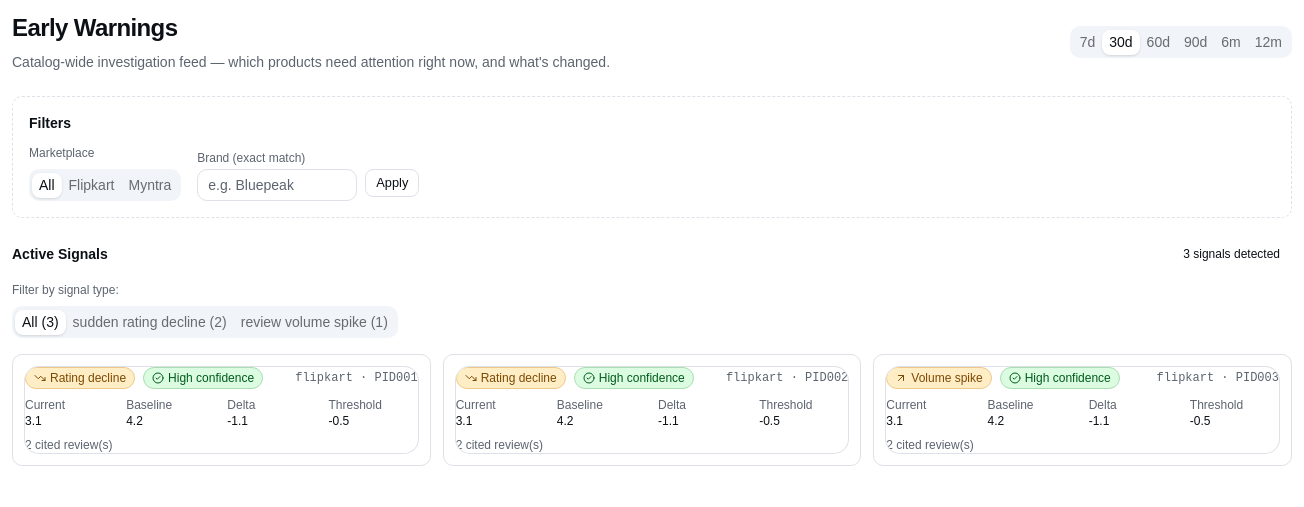
Test: Warnings / Early Warnings (Phase 7 Step 5) › 15. the signal-type filter only groups/counts already-fetched data, no client analytics
The width and height of the screenshot is (1304, 507).
Expected: the text "flipkart · PID001" is shown, x1=295 y1=370 x2=418 y2=386
Expected: the tab "All (3)" is shown, x1=15 y1=310 x2=66 y2=334
Click the tab "review volume spike (1)" at (314, 322), box x1=234 y1=310 x2=395 y2=334
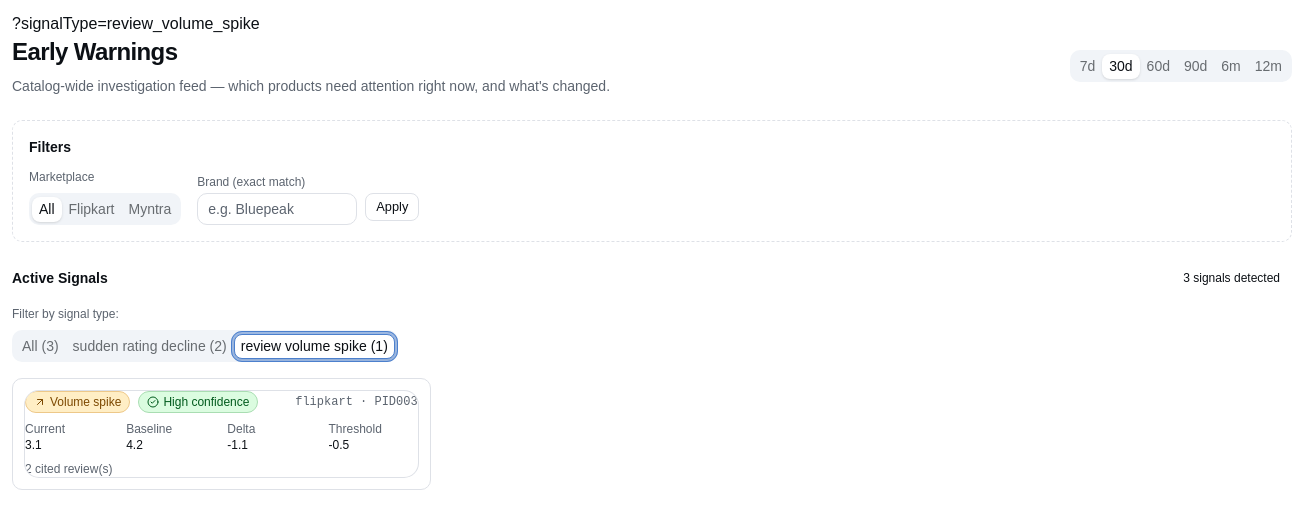
Expected: the text "flipkart · PID003" is shown, x1=295 y1=394 x2=418 y2=410
Expected: the link "PID001" is gone
